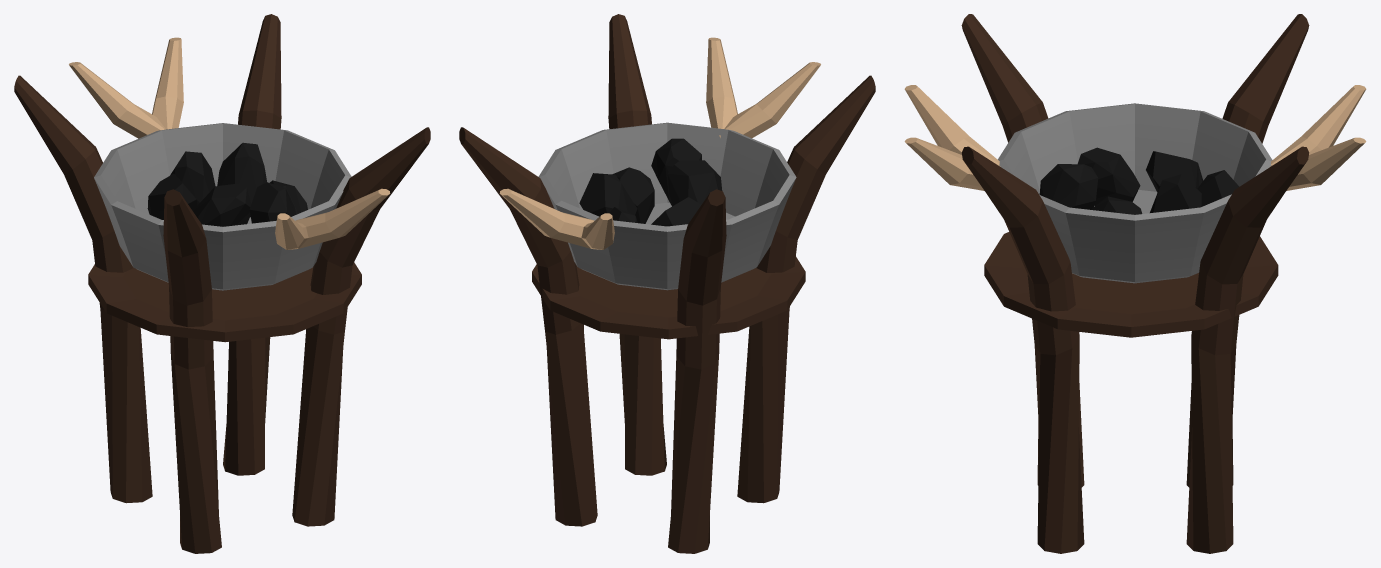
File: Tocha_de_Chao_2.fbx
3 views of the same model, side by side, from view 1: azimuth 30°, elevation 25°; view 2: azimuth 150°, elevation 25°; view 3: azimuth 270°, elevation 25° (orthographic). The views are drawn at different scales.
Visible parts, largest first — view 1: Cylinder.018, Cube.021, Cube.020, Cylinder.019, Icosphere.002, Icosphere.003; view 2: Cylinder.018, Cube.021, Cube.020, Cylinder.019, Icosphere.003, Icosphere.002; view 3: Cylinder.018, Cube.021, Cube.020, Cylinder.019, Icosphere.003, Icosphere.002.
Part boxes in pixels (x1,y1,x2,y2): Cylinder.018: (14,14,430,553); Cube.021: (94,123,351,290); Cube.020: (88,262,361,342); Cylinder.019: (69,37,390,249); Icosphere.002: (147,142,266,219); Icosphere.003: (193,180,307,226); Cylinder.018: (459,14,875,553); Cube.021: (538,122,796,290); Cube.020: (532,256,805,339); Cylinder.019: (499,37,820,249); Icosphere.003: (612,138,722,223); Icosphere.002: (579,173,701,226); Cylinder.018: (961,14,1309,553); Cube.021: (998,103,1272,283); Cube.020: (984,232,1278,337); Cylinder.019: (904,85,1366,190); Icosphere.003: (1039,147,1142,214); Icosphere.002: (1146,151,1239,212).
Bounding box in the file's own units: 858 × 1245 × 1200.
